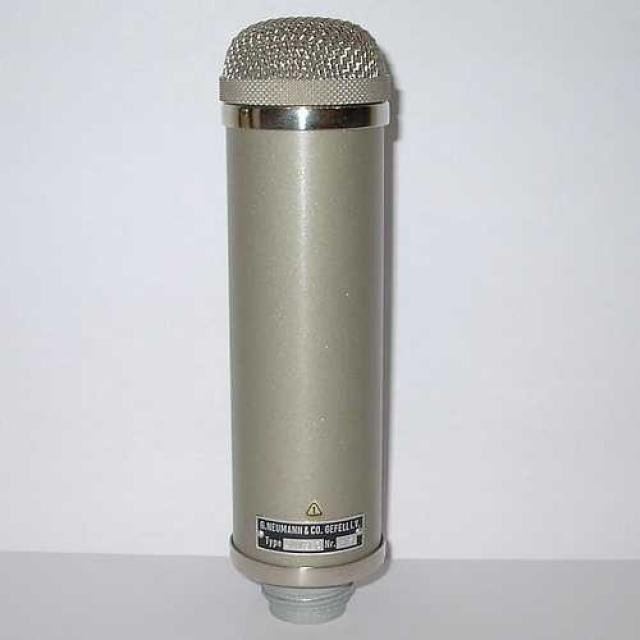microphone: (205, 7, 529, 624)
